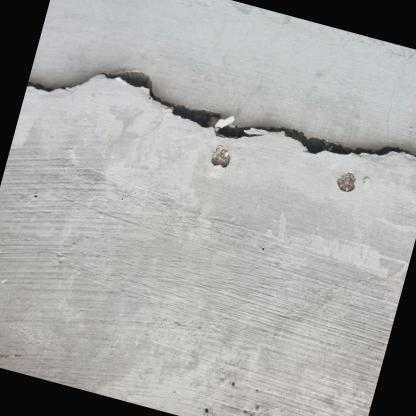crack: (25, 66, 416, 162)
